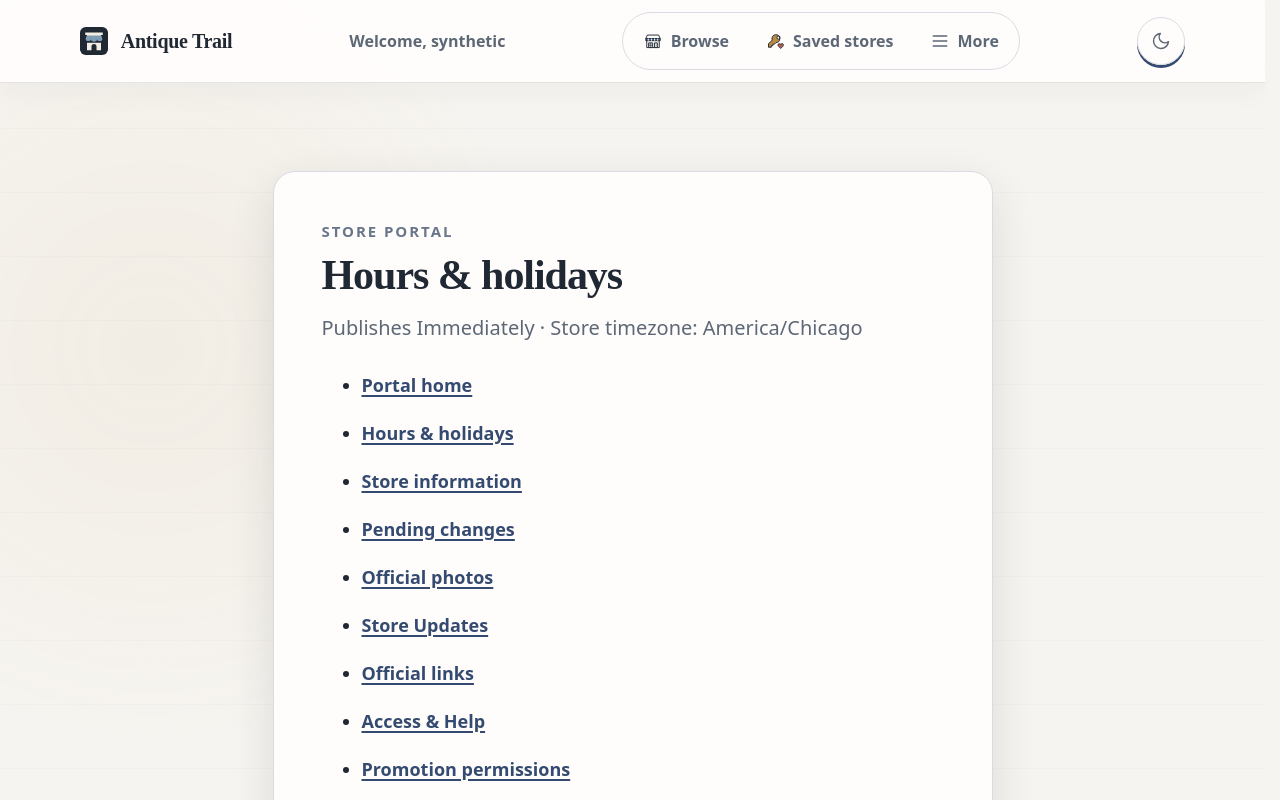
Test: portal authorization continuity › requires fresh authorization when history returns to the original location key
Click the link "Pending changes" at (438, 529), box [362,517,515,541]
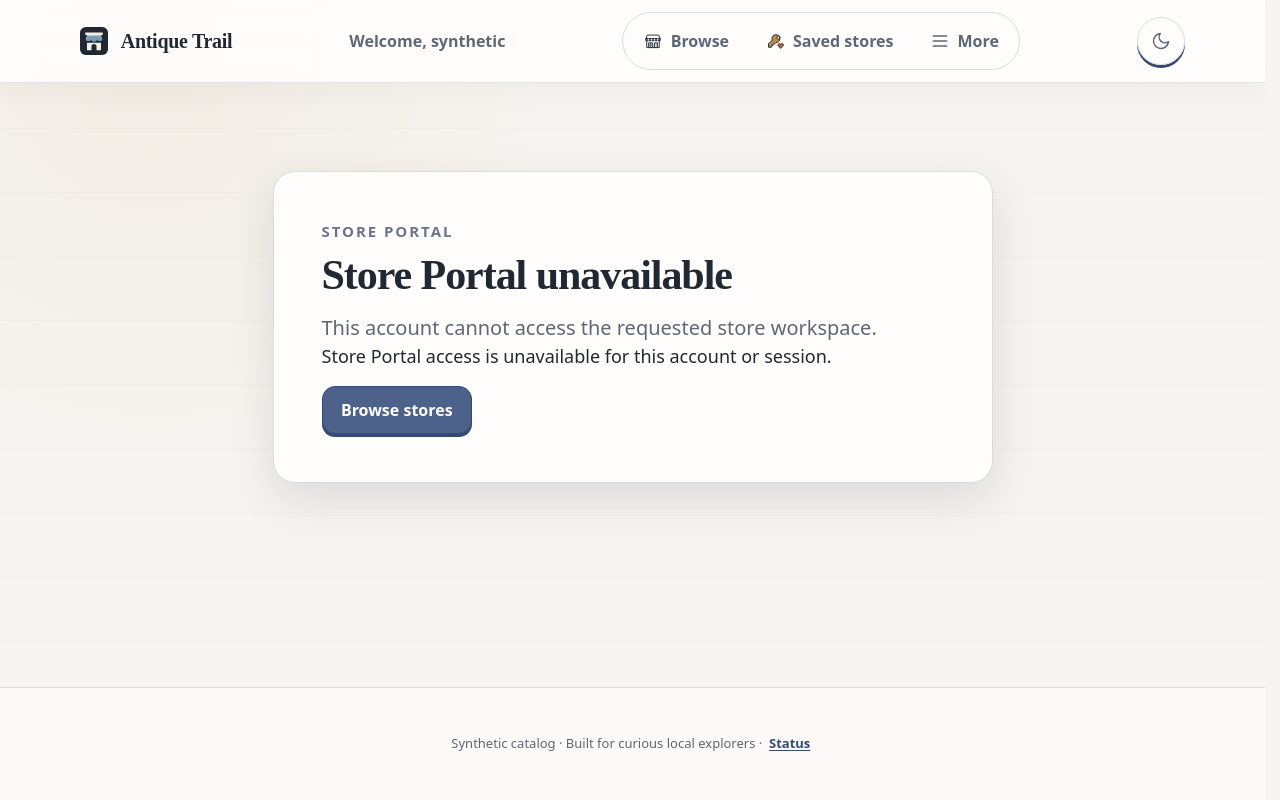
Expected: no fields labelled "First closing" are shown
Expected: the message shows "access is unavailable", [322,344,832,368]
